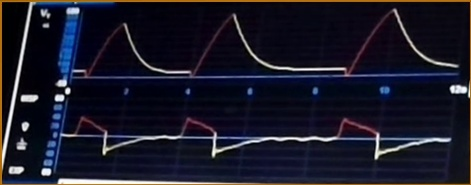Flow: (67, 108, 444, 176)
Leakage Volume: (79, 8, 460, 84)
